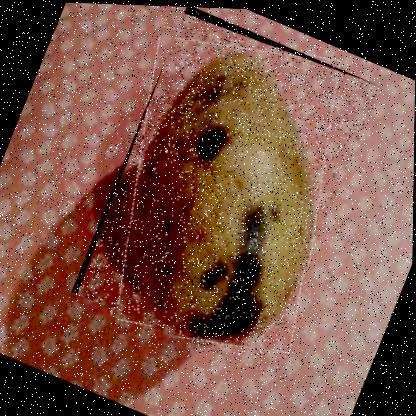mango_rotten: (70, 2, 382, 376)
